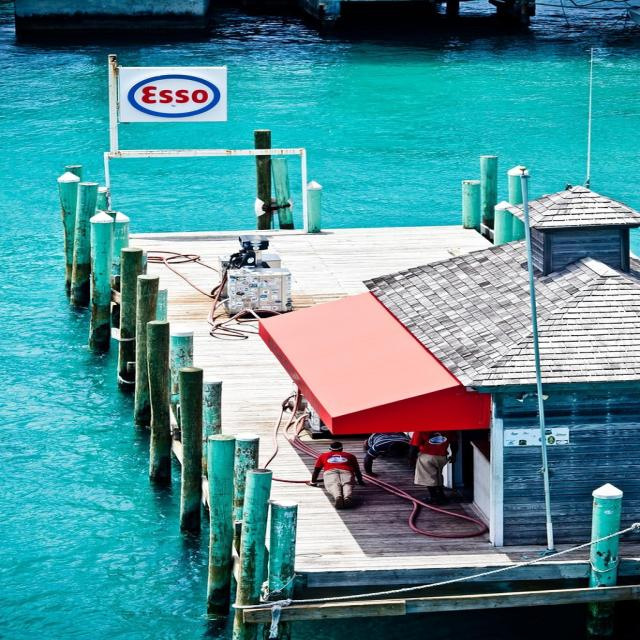esso: (124, 74, 225, 120)
